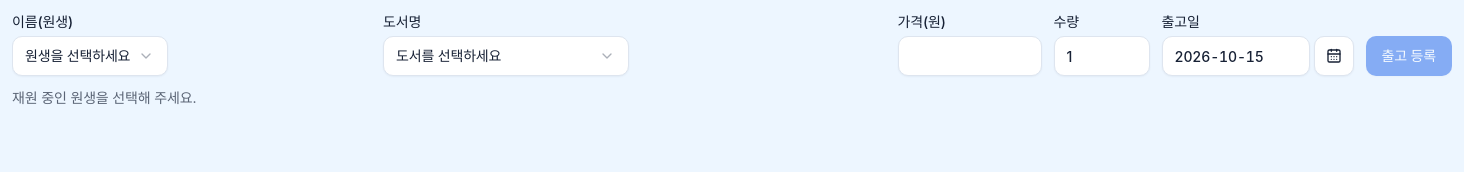
BookShipmentForm › 입력이 부족하면 등록을 막고 이유를 버튼과 연결해 알려 준다
Expected: the button "출고 등록" is disabled, left=1366, top=36, right=1452, bottom=76
Select "김민지" in the dropdown labelled "이름(원생)". click: coordinates (90, 56)
box: left=12, top=36, right=168, bottom=76
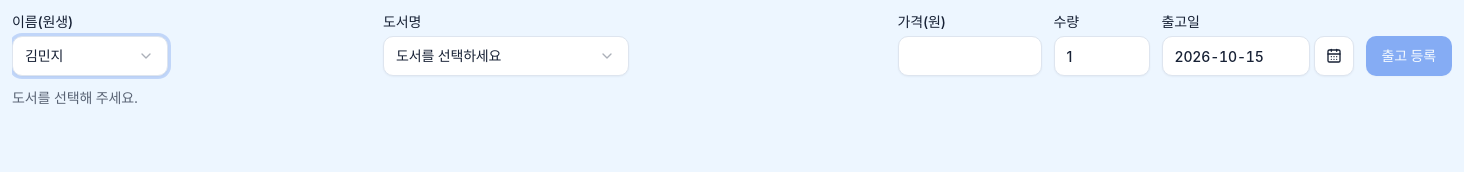
Select "바이엘 상 (남은 재고 9권)" in the dropdown labelled "도서명". click: coordinates (506, 56)
box: left=383, top=36, right=629, bottom=76
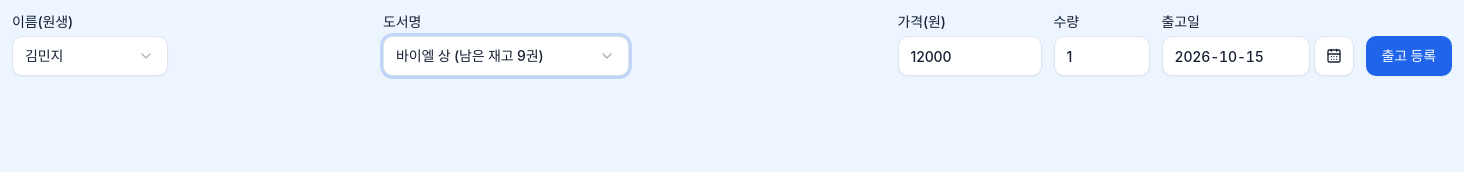
Now the button "출고 등록" is enabled, box left=1366, top=36, right=1452, bottom=76
